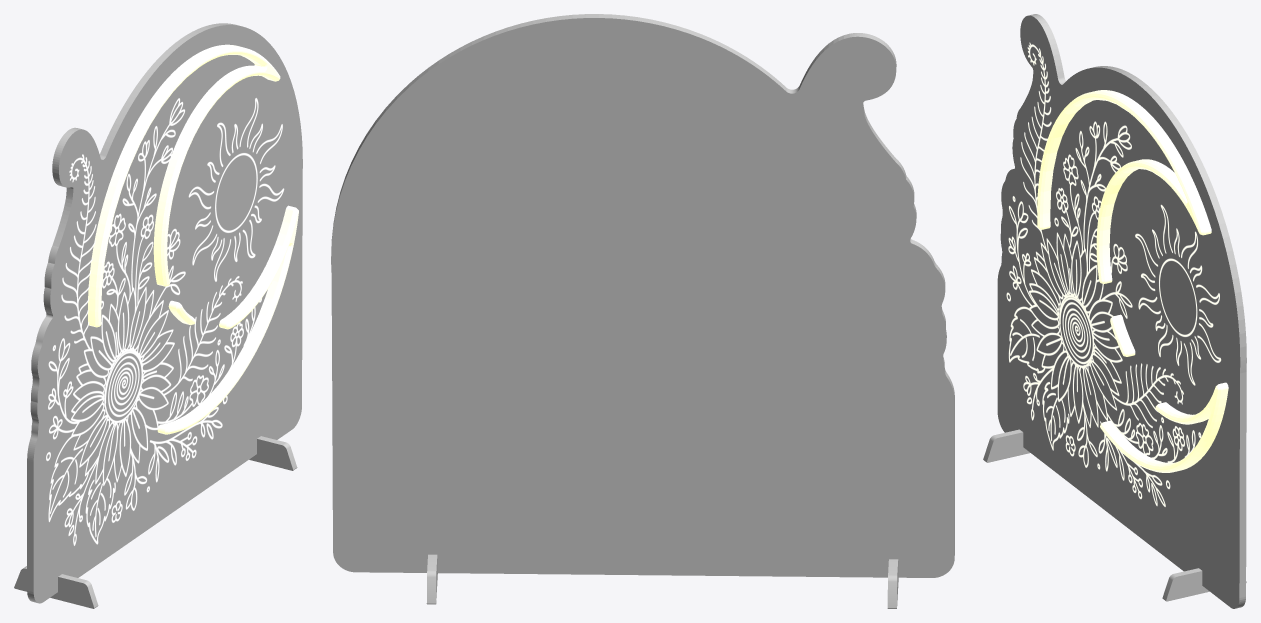
Rendered from TRY 3_ МІСЯЦЬ . Untitled.glb.
3 renders of one model, left to right at view 1: azimuth 30°, elevation 25°; view 2: azimuth 150°, elevation 25°; view 3: azimuth 270°, elevation 25°, orthographic. The views are drawn at different scales.
Visible parts, largest first — view 1: Curve, Ресурс 1, Curve.003, Curve.159; view 2: Curve, Curve.159; view 3: Curve, Ресурс 1, Curve.003, Curve.159.
Part boxes in pixels (x1,y1,x2,y2): Curve: (27, 23, 302, 603); Ресурс 1: (46, 98, 284, 545); Curve.003: (88, 44, 298, 434); Curve.159: (14, 436, 297, 608); Curve: (331, 14, 954, 577); Curve.159: (426, 554, 898, 608); Curve: (997, 14, 1246, 608); Ресурс 1: (1006, 42, 1221, 506); Curve.003: (1037, 90, 1228, 472); Curve.159: (983, 429, 1246, 601).
Size of the model in its own units: 0.2963 by 0.3354 by 0.1745.
3 materials, 1 textured.
